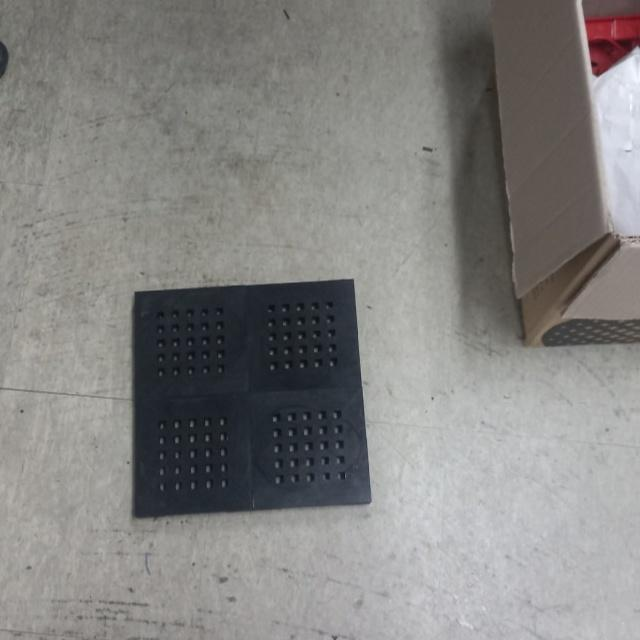pallet: (126, 270, 380, 519)
